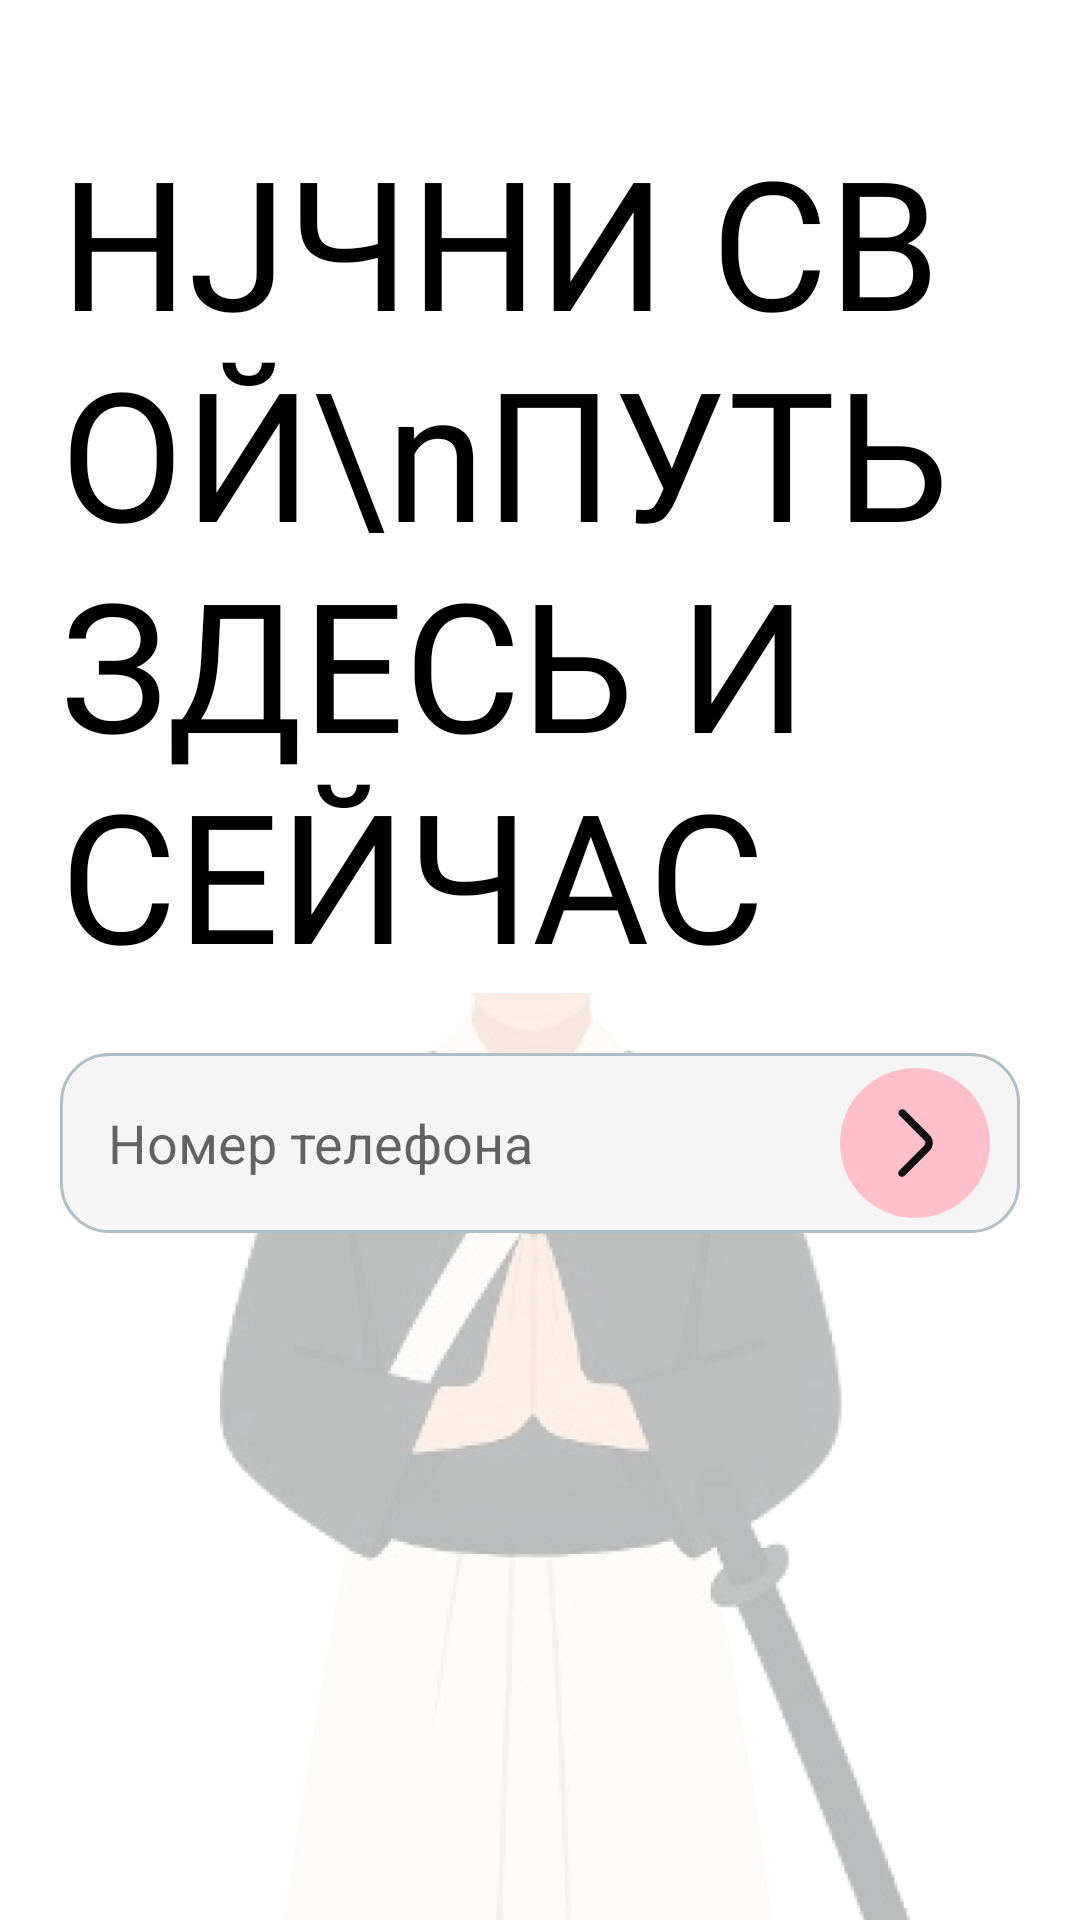

Icon click points for this 1080px x 1920px phone screenshot, format (x=x, y=y):
Далее: (x=915, y=1143)
